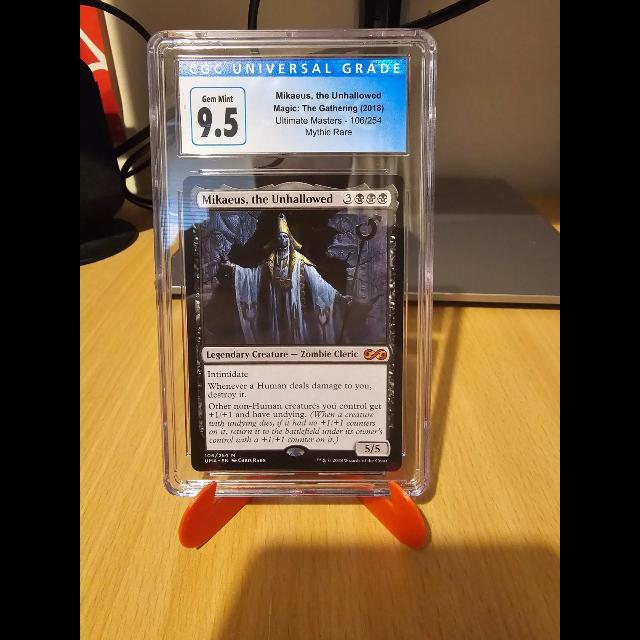card: (181, 173, 406, 472)
cgc_label_old: (178, 57, 407, 156)
cgc_slab: (147, 27, 436, 499)
